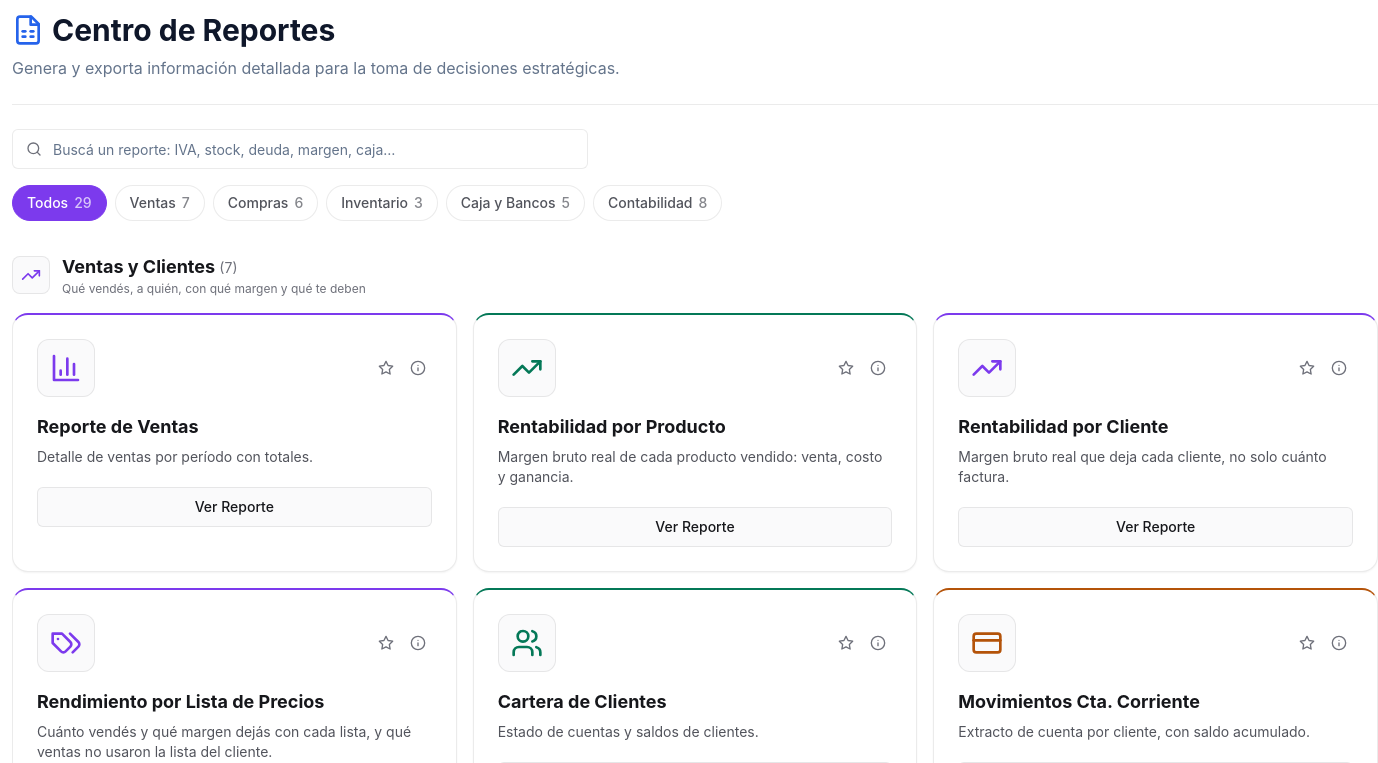
Scenario: GridReportes — buscador › los chips muestran cuántos resultados cayeron en cada rubro y se apagan los que quedan en cero
The width and height of the screenshot is (1378, 763).
Step 1. Type "kardex" into the field named "Buscar reporte" → {"x": 300, "y": 149}, box [12, 129, 588, 169]
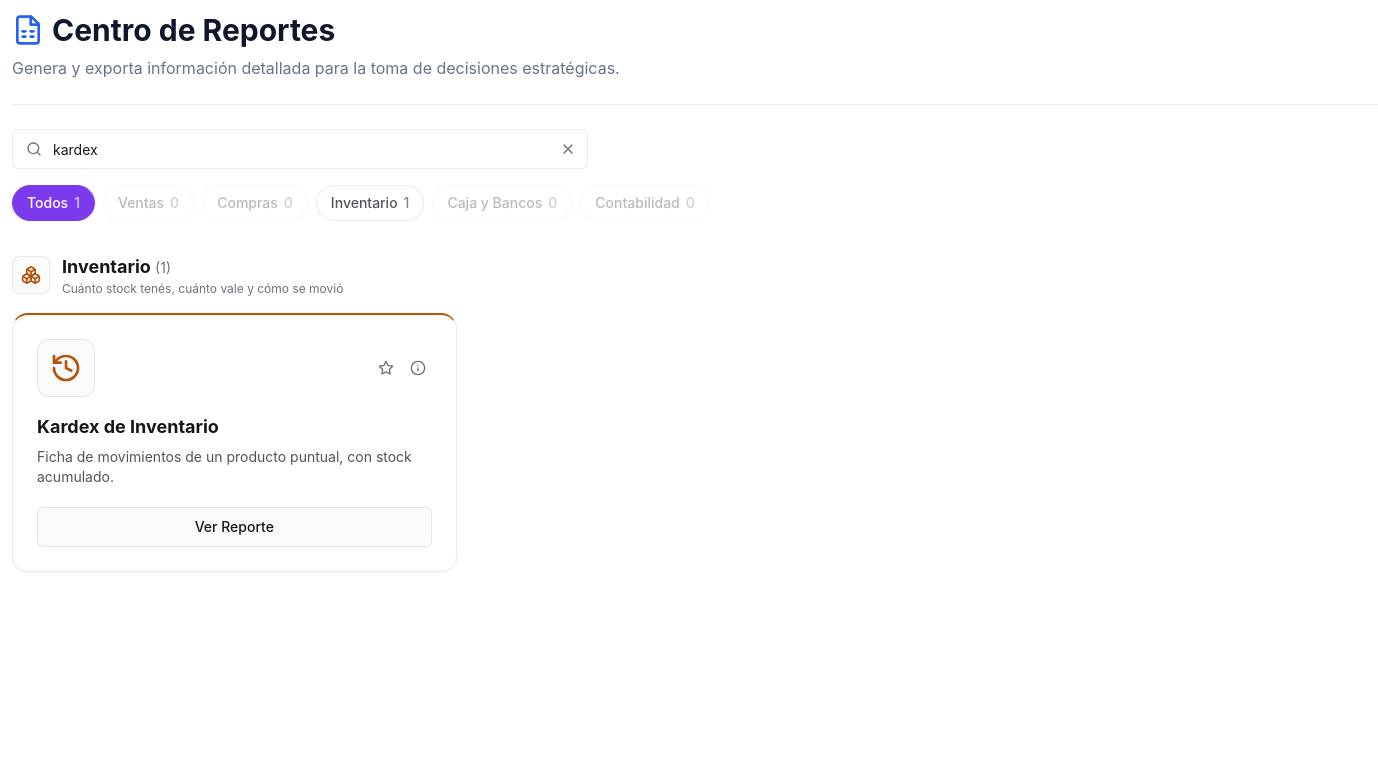
expect the button "Inventario 1" is enabled: met, box [316, 185, 424, 221]
expect the button "Contabilidad 0" is disabled: met, box [580, 185, 710, 221]
